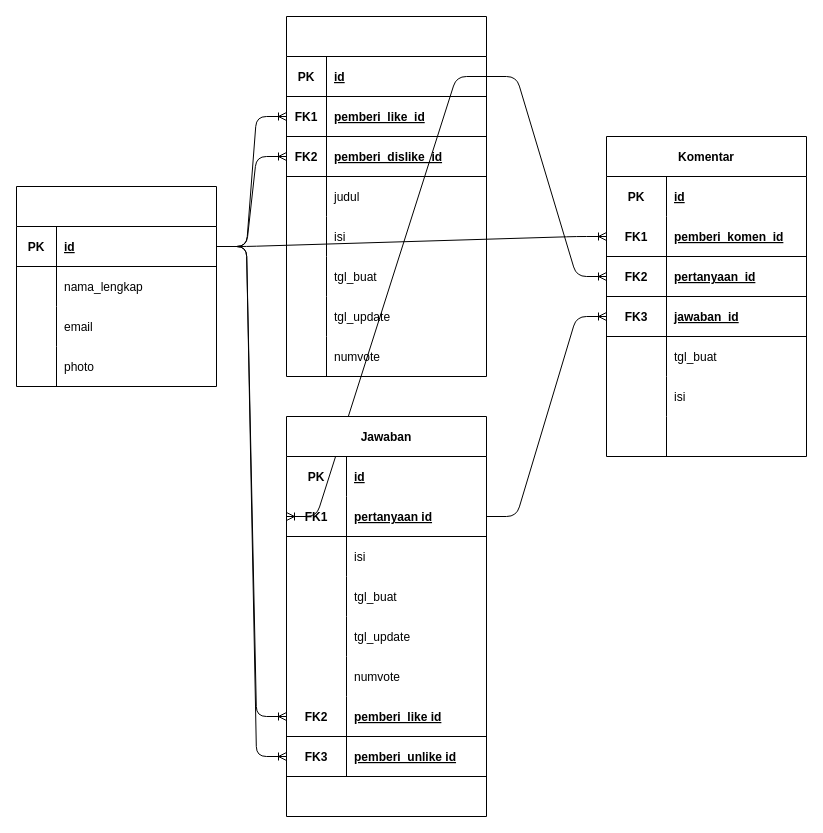
Image size: 823x833. Some labels were removed from this diagram. The shapes that lost their labels are listed below. From the top down, each one's box as (x1, y1, x2, y2) in pixels, then its label:
(286, 16, 486, 376): Pertanyaan
(16, 186, 216, 386): Profile
